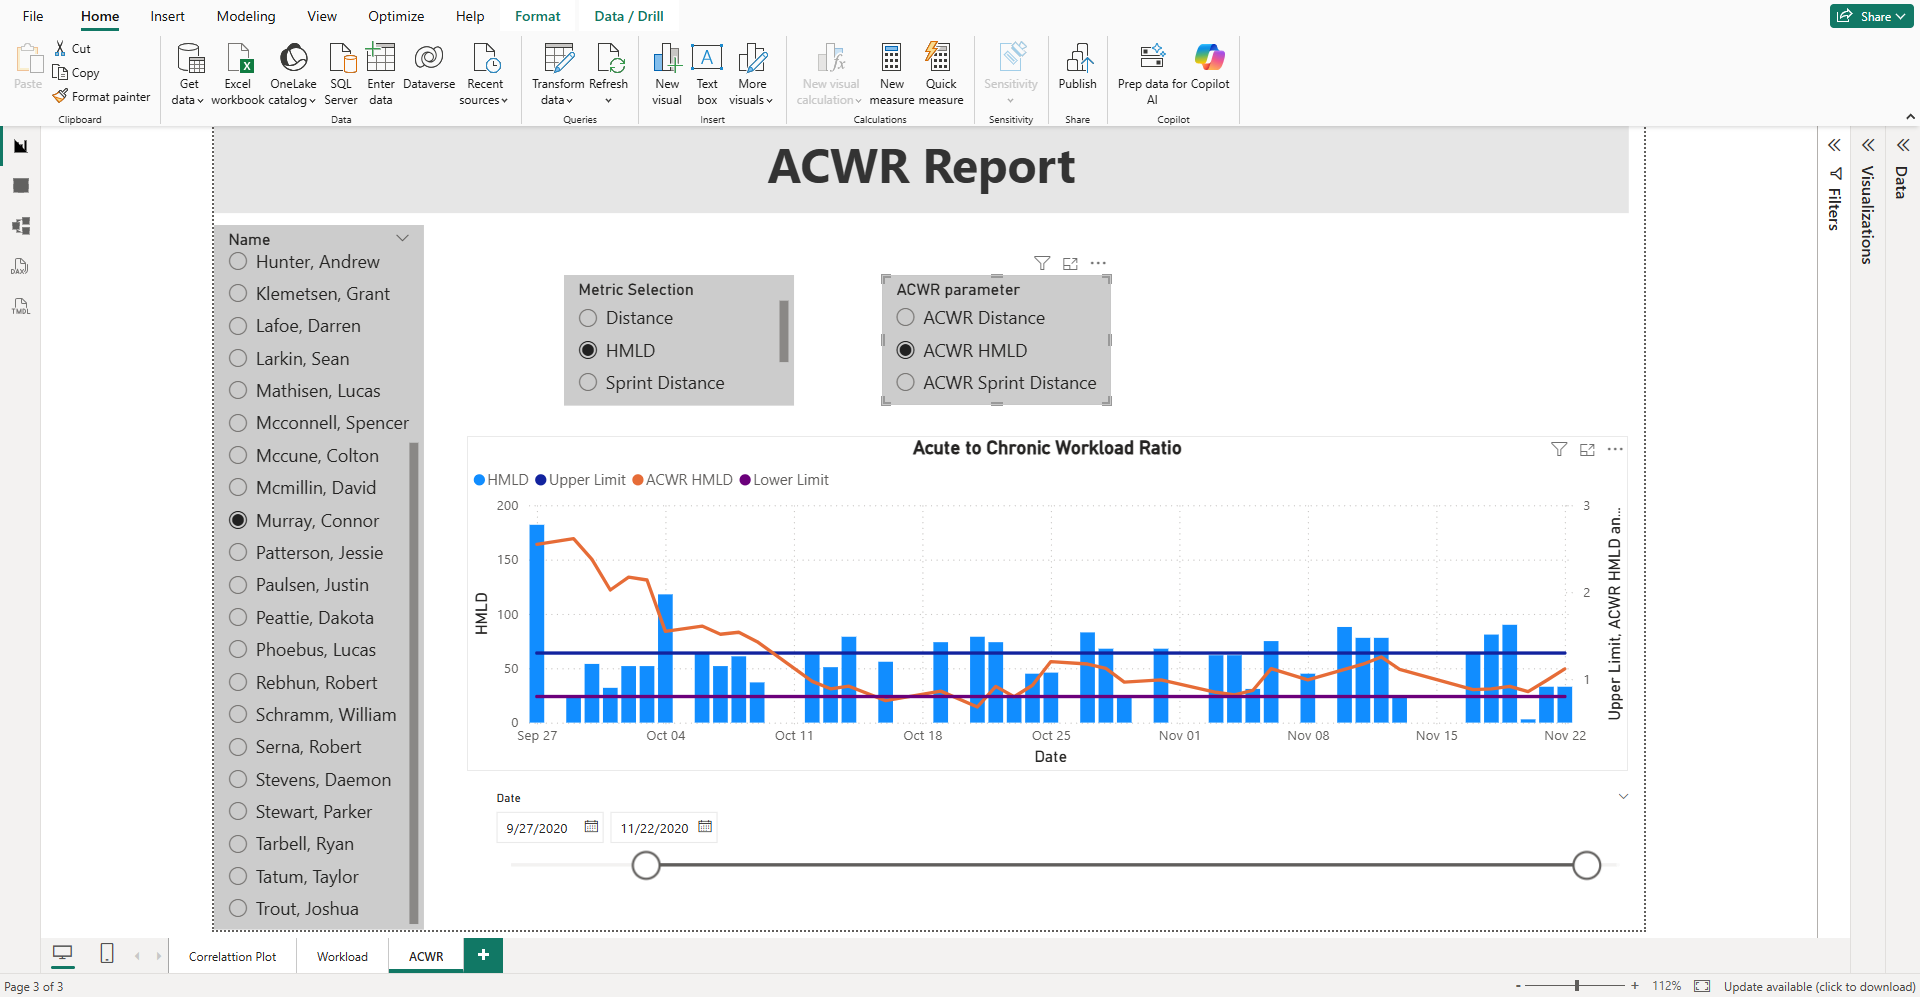

What the dashboard file says about the page in this screenshot:
{"tool":"powerbi","page":{"name":"ACWR","canvas":[1280,720],"ordinal":2},"visuals":[{"type":"lineStackedColumnComboChart","title":"Acute to Chronic  Workload Ratio","fields":{"Y":["daily_gps_data.Total Sprint Distance"],"Y2":["daily_gps_data.Upper Limit","daily_gps_data.ACWR Sprint Distance","daily_gps_data.Lower Limit"],"Category":["daily_gps_data.Date"]},"box":[226.6,277.6,1039.7,300],"z":0},{"type":"slicer","fields":{"Values":["daily_gps_data.Name"]},"box":[0,88.7,188.1,631.3],"z":1000},{"type":"slicer","fields":{"Values":["daily_gps_data.Date"]},"box":[240,590.1,1039.7,118.2],"z":2000},{"type":"slicer","fields":{"Values":["Metric Selection.Metric Selection"]},"box":[313.4,133.4,206,117.3],"z":3000},{"type":"slicer","fields":{"Values":["ACWR parameter.ACWR parameter"]},"box":[598.2,133.4,205.1,116.4],"z":4000},{"type":"textbox","box":[0,0,1267.2,77.9],"z":5000}]}

Visuals, with their boxes on the page's 1280x720 design canvas (x1, y1, x2, y2). These are canvas units, not pixel positions in the 1920x997 screenshot, which may show the page scaled, cropped or inside an application window:
"Acute to Chronic  Workload Ratio" lineStackedColumnComboChart: <box>227,278,1266,578</box>
slicer - daily_gps_data.Name: <box>0,89,188,720</box>
slicer - daily_gps_data.Date: <box>240,590,1280,708</box>
slicer - Metric Selection.Metric Selection: <box>313,133,519,251</box>
slicer - ACWR parameter.ACWR parameter: <box>598,133,803,250</box>
textbox: <box>0,0,1267,78</box>
